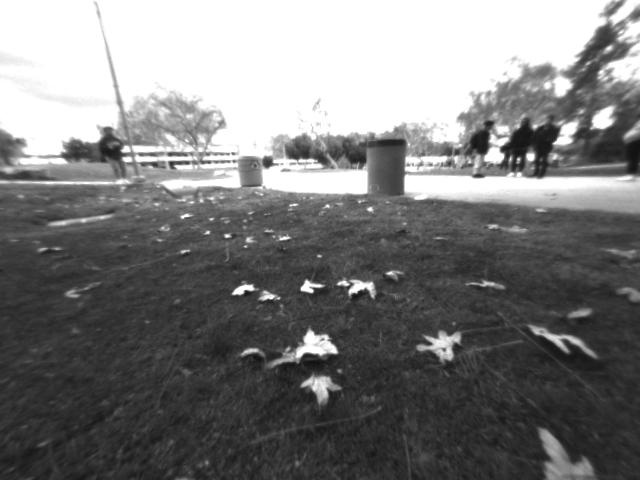trashcan: (366, 138, 406, 197), (236, 151, 270, 191)
